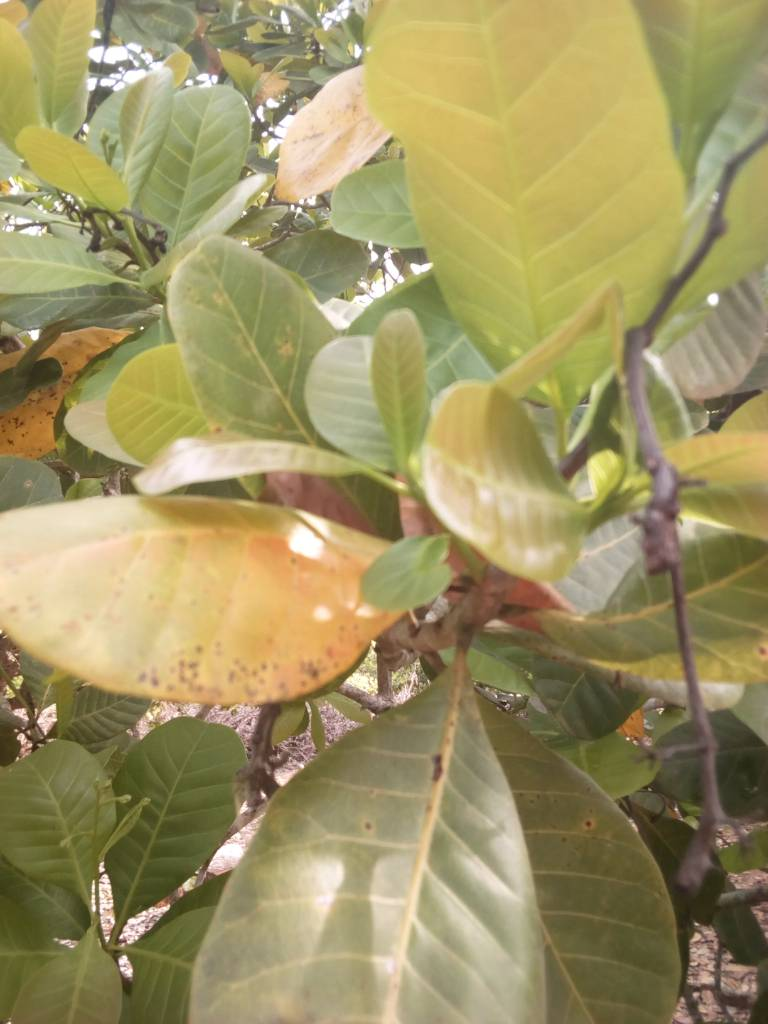Anthracnose: (1, 496, 402, 702), (272, 66, 399, 200)
